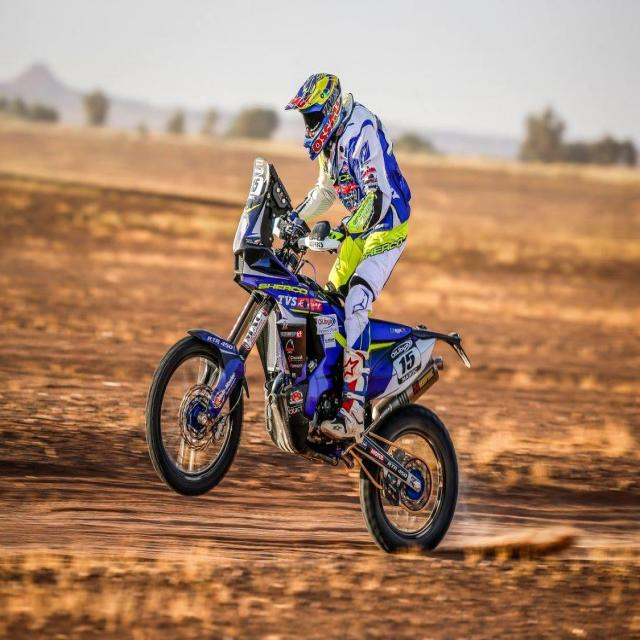illegal_helmet: (281, 69, 348, 166)
